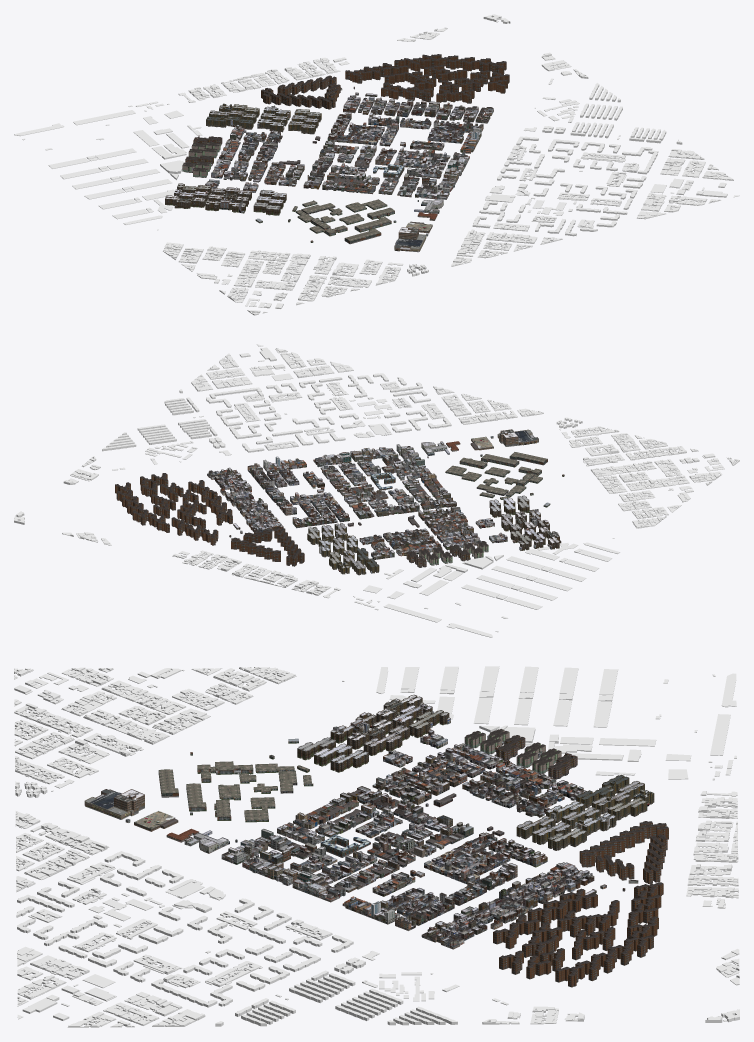
The model's file is inem.glb.
3 views of the same model, one above another, from view 1: azimuth 30°, elevation 25°; view 2: azimuth 150°, elevation 25°; view 3: azimuth 270°, elevation 25° (orthographic). The views are drawn at different scales.
Bounding box in the file's own units: 1298 × 26.7 × 1104.
Materials: 901 (900 with a texture image).
